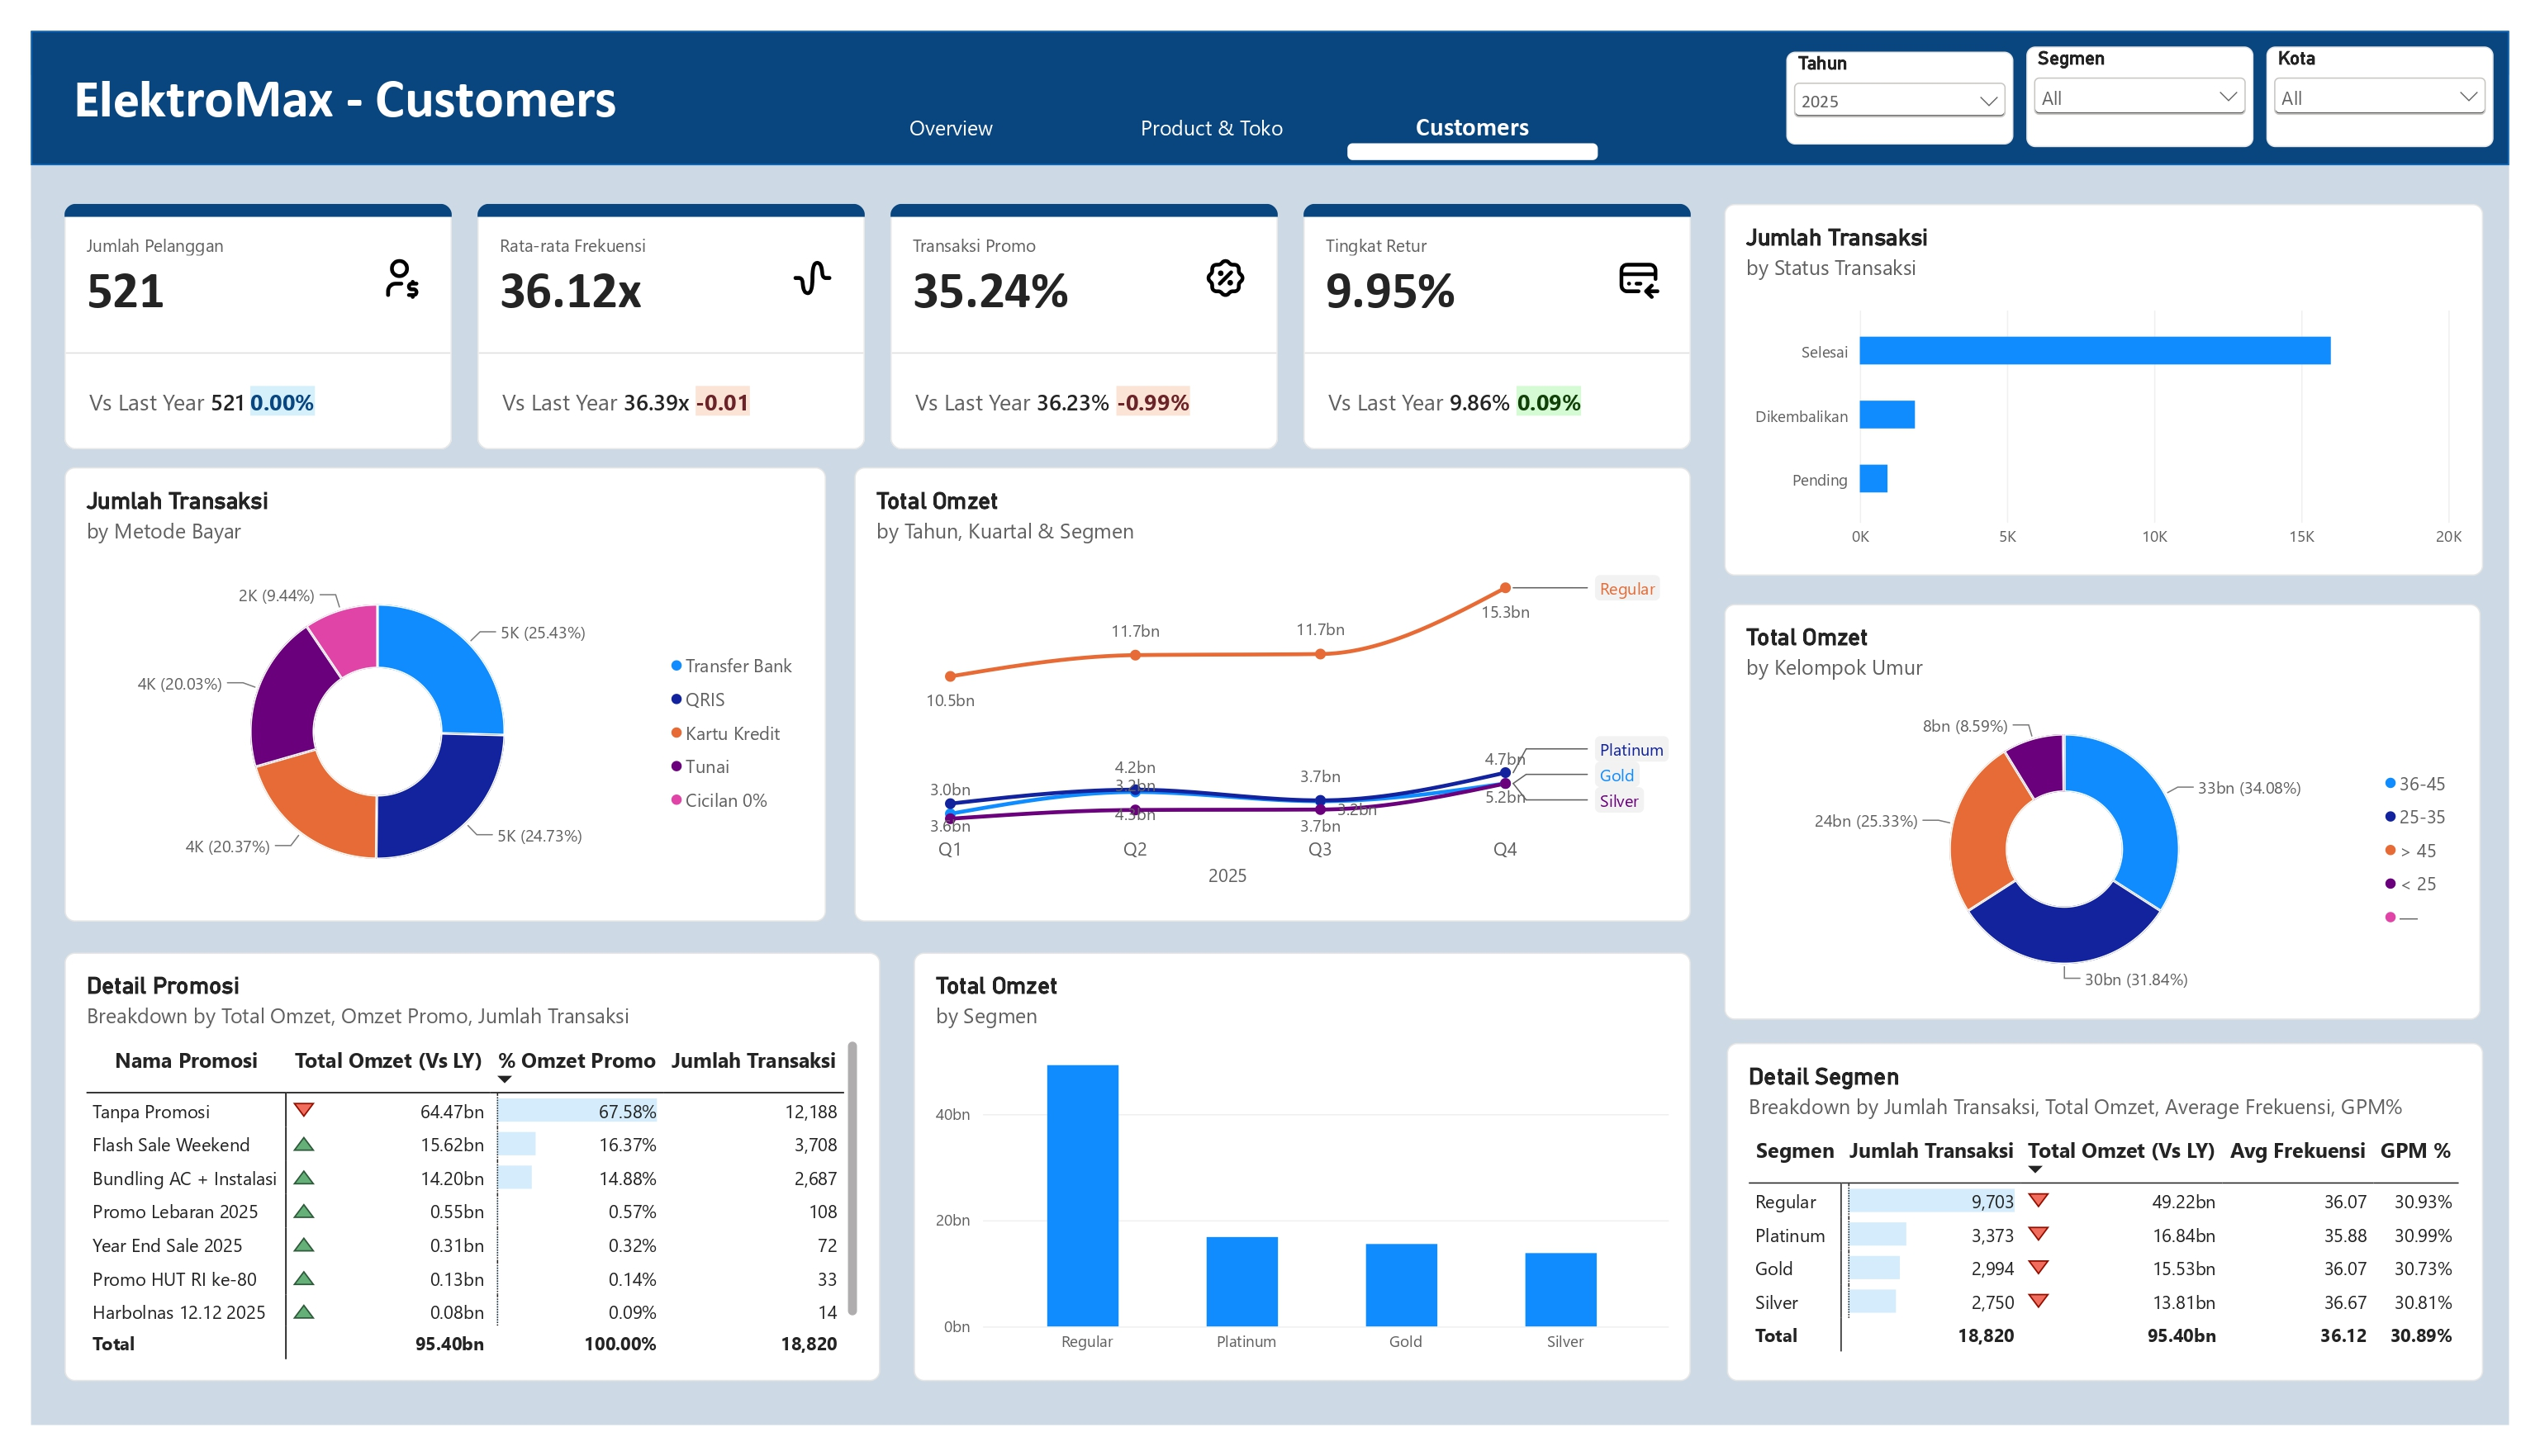

What the dashboard file says about the page in this screenshot:
{"tool":"powerbi","page":{"name":"Customers","canvas":[1920,1080],"ordinal":2},"visuals":[{"type":"shape","box":[0,0,1920,104],"z":0},{"type":"slicer","fields":{"Values":["DIM_WAKTU.tahun"]},"box":[1360.4,16.4,176,72],"z":1000},{"type":"columnChart","title":"Total Omzet","fields":{"Category":["DIM_PELANGGAN.segmen"],"Y":["_MEASURE.Total Omzet"]},"box":[684,714,602,332],"z":2000},{"type":"lineChart","title":"Total Omzet","fields":{"Category":["DIM_WAKTU.tahun Hierarchy.tahun","DIM_WAKTU.tahun Hierarchy.kuartal","DIM_WAKTU.tahun Hierarchy.bulan","DIM_WAKTU.tahun Hierarchy.tanggal"],"Series":["DIM_PELANGGAN.segmen"],"Y":["_MEASURE.Total Omzet"]},"box":[638,338,648,352],"z":3000},{"type":"donutChart","title":"Total Omzet","fields":{"Category":["DIM_PELANGGAN.kelompok_umur"],"Y":["_MEASURE.Total Omzet"]},"box":[1312,444,586,322],"z":4000},{"type":"donutChart","title":"Jumlah Transaksi","fields":{"Category":["FACT_PENJUALAN.metode_bayar"],"Y":["_MEASURE.Jumlah Transaksi"]},"box":[26,338,590,352],"z":5000},{"type":"barChart","title":"Jumlah Transaksi","fields":{"Category":["FACT_PENJUALAN.status_transaksi"],"Y":["_MEASURE.Jumlah Transaksi"]},"box":[1312,134,588,288],"z":6000},{"type":"slicer","fields":{"Values":["DIM_PELANGGAN.segmen"]},"box":[1546.4,12.4,176,78],"z":7000},{"type":"slicer","fields":{"Values":["DIM_PELANGGAN.kota"]},"box":[1732.4,12.4,176,78],"z":8000},{"type":"pageNavigator","box":[616,50,600,50],"z":8000,"group":"g1"},{"type":"pageNavigator","box":[616,86.7,600,13.3],"z":9000,"group":"g1"},{"type":"cardVisual","fields":{"Data":["_MEASURE.Jumlah Pelanggan","_MEASURE.avg frek Tampilan","_MEASURE.% Transaksi Promo","_MEASURE.% Retur"]},"box":[26,134,1260,190],"z":9000},{"type":"group","id":"g1","title":"Page Navigator","box":[616,50,600,50],"z":10000},{"type":"textbox","box":[33.3,25,528.3,75],"z":11000},{"type":"pivotTable","title":"Detail Segmen","fields":{"Rows":["DIM_PELANGGAN.segmen"],"Values":["_MEASURE.Jumlah Transaksi","_MEASURE.Total Omzet","_MEASURE.Avg Frekuensi","_MEASURE.GPM %"]},"box":[1314,784,586,262],"z":12000},{"type":"pivotTable","title":"Detail Promosi","fields":{"Rows":["DIM_PROMOSI.nama_promosi"],"Values":["_MEASURE.Total Omzet","_MEASURE.% Omzet Promo","_MEASURE.Jumlah Transaksi"]},"box":[26,714,632,332],"z":13000}]}

Visuals, with their boxes on the page's 1920x1080 design canvas (x1, y1, x2, y2). These are canvas units, not pixel positions in the 2540x1456 screenshot, which may show the page scaled, cropped or inside an application window:
shape: box=[0, 0, 1920, 104]
slicer - DIM_WAKTU.tahun: box=[1360, 16, 1536, 88]
"Total Omzet" columnChart: box=[684, 714, 1286, 1046]
"Total Omzet" lineChart: box=[638, 338, 1286, 690]
"Total Omzet" donutChart: box=[1312, 444, 1898, 766]
"Jumlah Transaksi" donutChart: box=[26, 338, 616, 690]
"Jumlah Transaksi" barChart: box=[1312, 134, 1900, 422]
slicer - DIM_PELANGGAN.segmen: box=[1546, 12, 1722, 90]
slicer - DIM_PELANGGAN.kota: box=[1732, 12, 1908, 90]
pageNavigator: box=[616, 50, 1216, 100]
pageNavigator: box=[616, 87, 1216, 100]
cardVisual - _MEASURE.Jumlah Pelanggan x _MEASURE.avg frek Tampilan: box=[26, 134, 1286, 324]
"Page Navigator" group: box=[616, 50, 1216, 100]
textbox: box=[33, 25, 562, 100]
"Detail Segmen" pivotTable: box=[1314, 784, 1900, 1046]
"Detail Promosi" pivotTable: box=[26, 714, 658, 1046]
